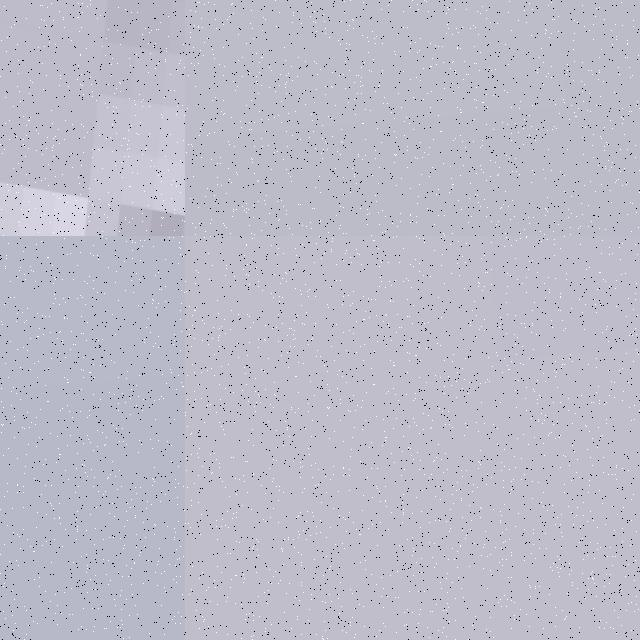drone: (0, 0, 185, 236)
